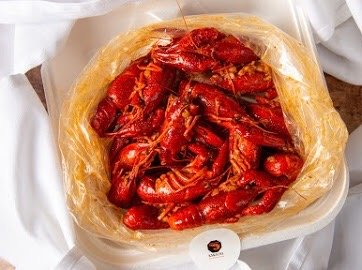sandwich: (59, 18, 333, 249)
